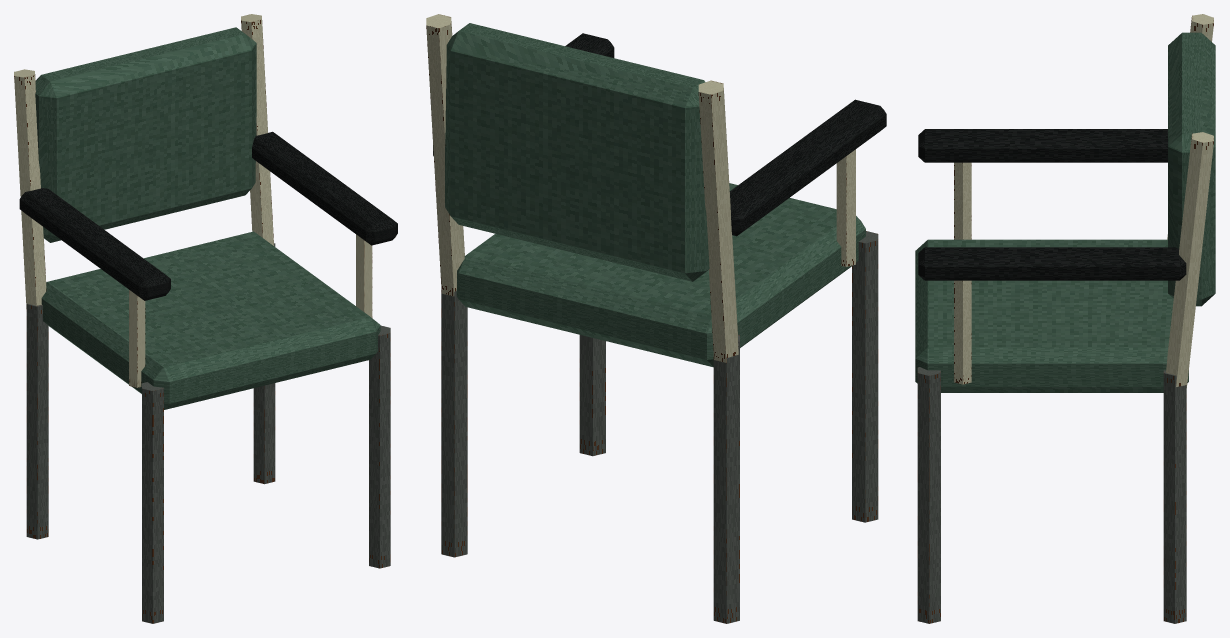
File: visitor_chair.glb
3 renders of one model, left to right at view 1: azimuth 30°, elevation 25°; view 2: azimuth 150°, elevation 25°; view 3: azimuth 270°, elevation 25°, orthographic. The views are drawn at different scales.
Visible parts, largest first — view 1: 03_Visitor_Chair_Mesh.001; view 2: 03_Visitor_Chair_Mesh.001; view 3: 03_Visitor_Chair_Mesh.001.
Part boxes in pixels (bbox=[...]): 03_Visitor_Chair_Mesh.001: bbox=[14, 14, 397, 623]; 03_Visitor_Chair_Mesh.001: bbox=[426, 14, 886, 623]; 03_Visitor_Chair_Mesh.001: bbox=[915, 14, 1215, 623].
Bounding box in the file's own units: 0.57 × 0.952 × 0.5375.
1 material, 1 textured.
